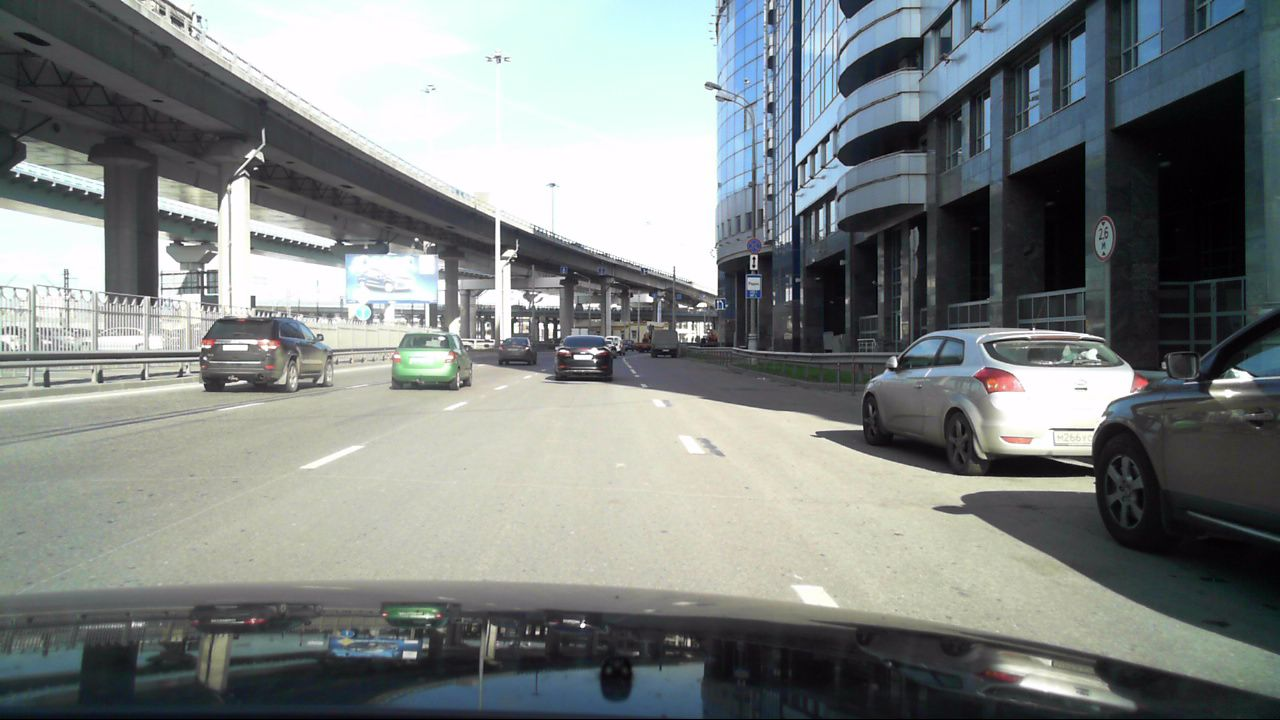No Parking: (746, 238, 763, 255)
